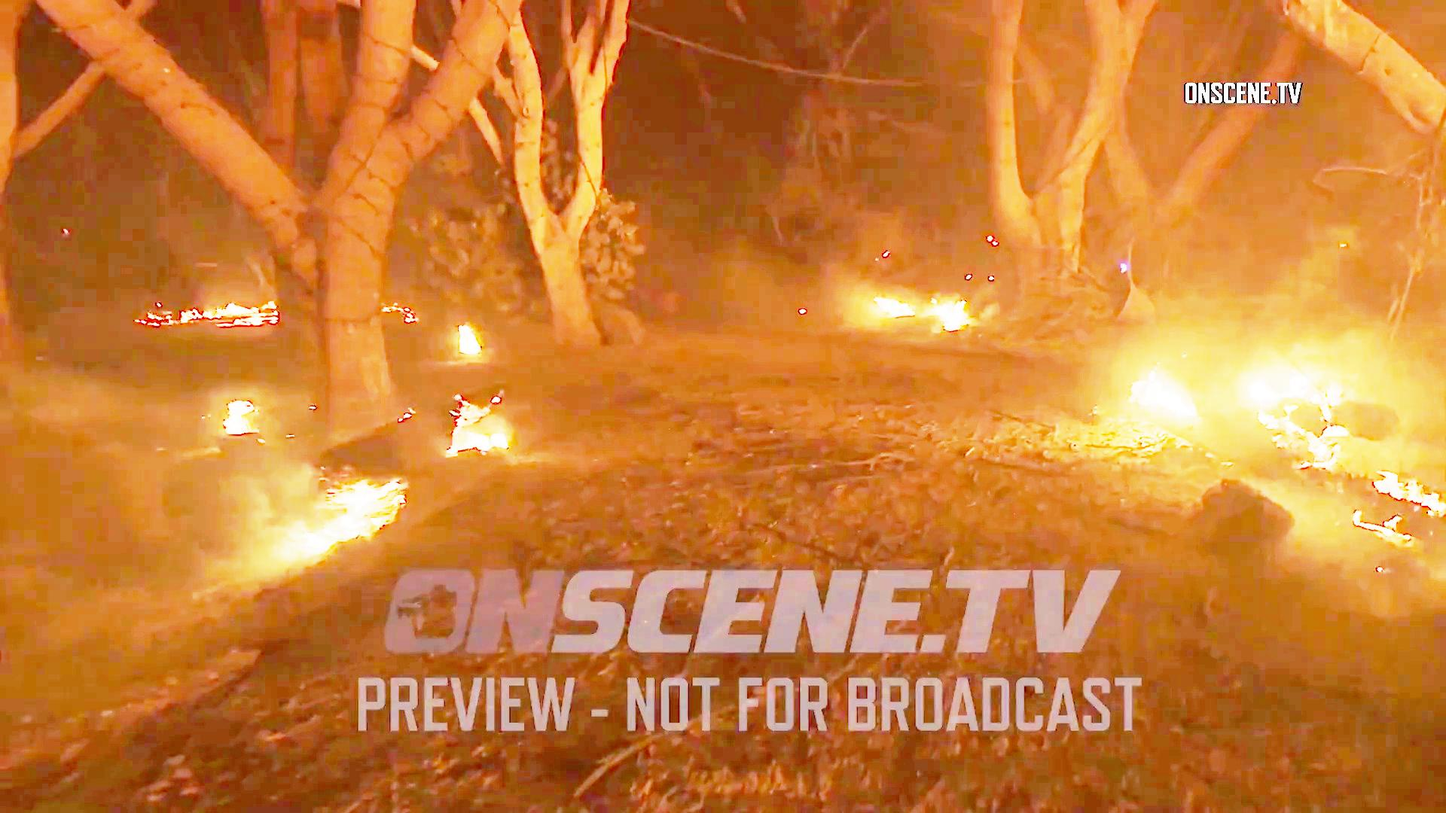fire: (1237, 371, 1343, 467), (140, 288, 289, 335), (1126, 354, 1195, 440), (868, 281, 968, 336)
